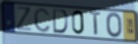0: (71, 10, 85, 36)
C: (33, 7, 51, 34)
D: (53, 9, 69, 35)
O: (105, 12, 123, 40)
T: (89, 10, 103, 37)
Z: (15, 5, 33, 33)
